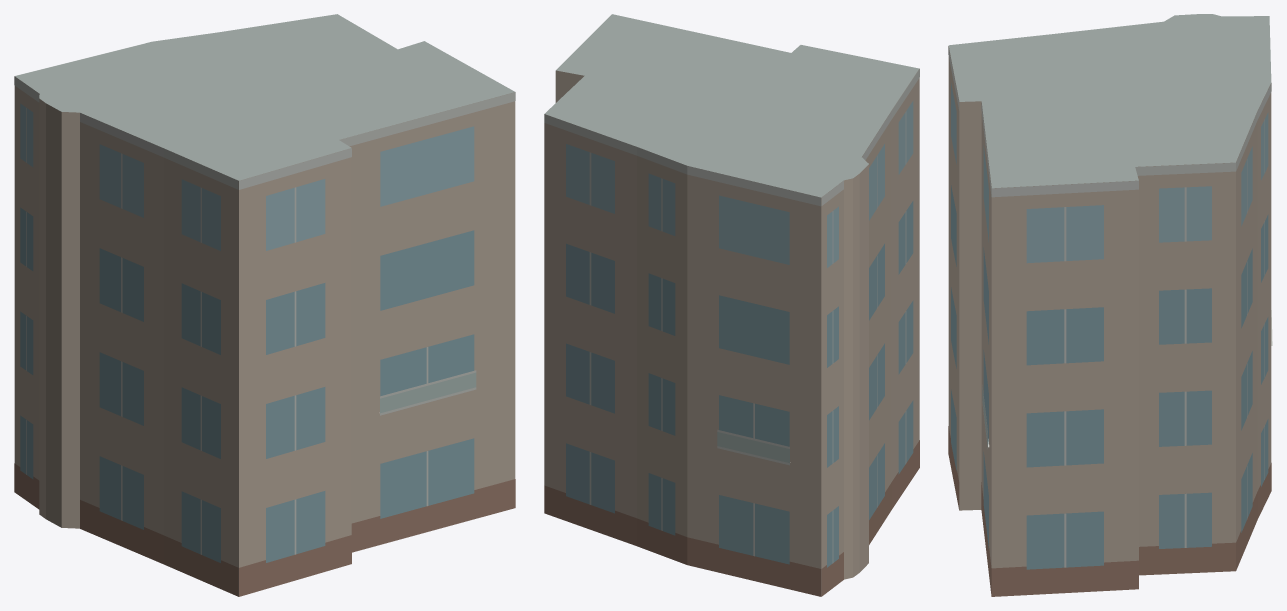
The model's file is survey-upis-32990998.glb.
3 renders of one model, left to right at view 1: azimuth 30°, elevation 25°; view 2: azimuth 150°, elevation 25°; view 3: azimuth 270°, elevation 25°, orthographic. The views are drawn at different scales.
Parts seen in each view (by area): view 1: survey-upis-32990998.tmp; view 2: survey-upis-32990998.tmp; view 3: survey-upis-32990998.tmp.
Boxes of the visible parts, box(x1,y1,x2,y2) form: survey-upis-32990998.tmp: box(14, 14, 515, 596); survey-upis-32990998.tmp: box(544, 14, 919, 596); survey-upis-32990998.tmp: box(948, 14, 1272, 596).
Bounding box in the file's own units: 10.07 × 11 × 7.91.
